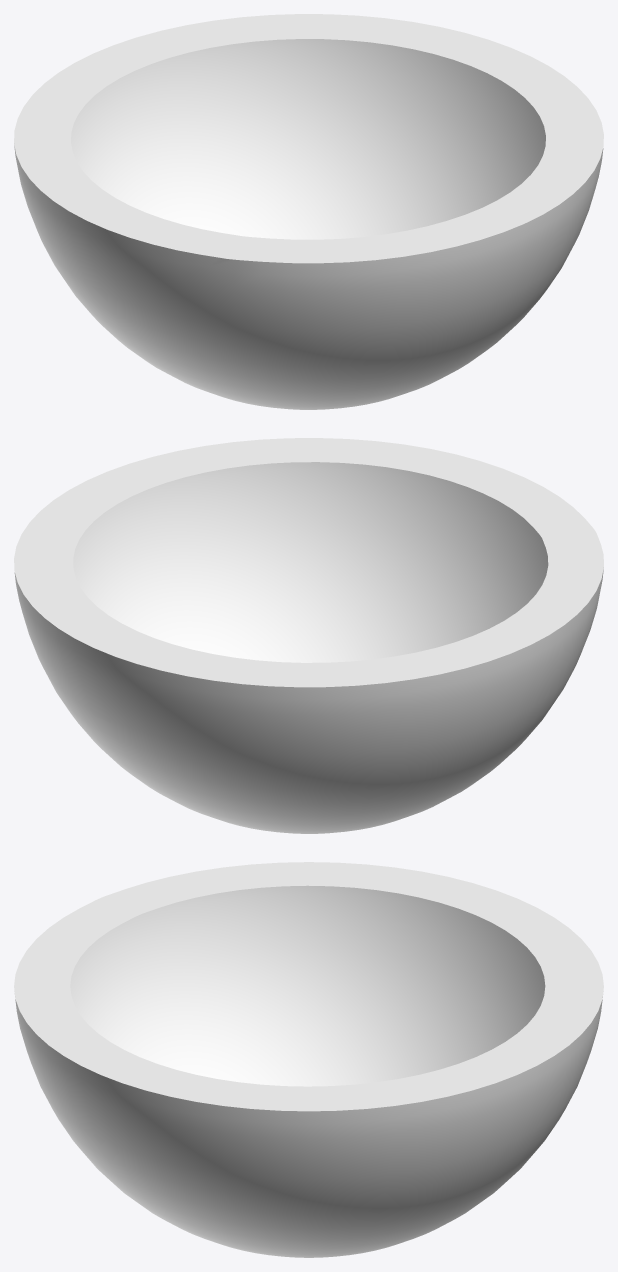
File: pokeabajo.obj
3 renders of one model, top to bottom at view 1: azimuth 30°, elevation 25°; view 2: azimuth 150°, elevation 25°; view 3: azimuth 270°, elevation 25°, orthographic.
Visible parts, largest first — view 1: polySurface2 Sphere001; view 2: polySurface2 Sphere001; view 3: polySurface2 Sphere001.
Part boxes in pixels (bbox=[...]): polySurface2 Sphere001: bbox=[14, 14, 603, 409]; polySurface2 Sphere001: bbox=[14, 438, 603, 833]; polySurface2 Sphere001: bbox=[14, 862, 603, 1257].
Size of the model in its own units: 2.81 by 1.29 by 2.81.
Materials: 1 (1 with a texture image).
